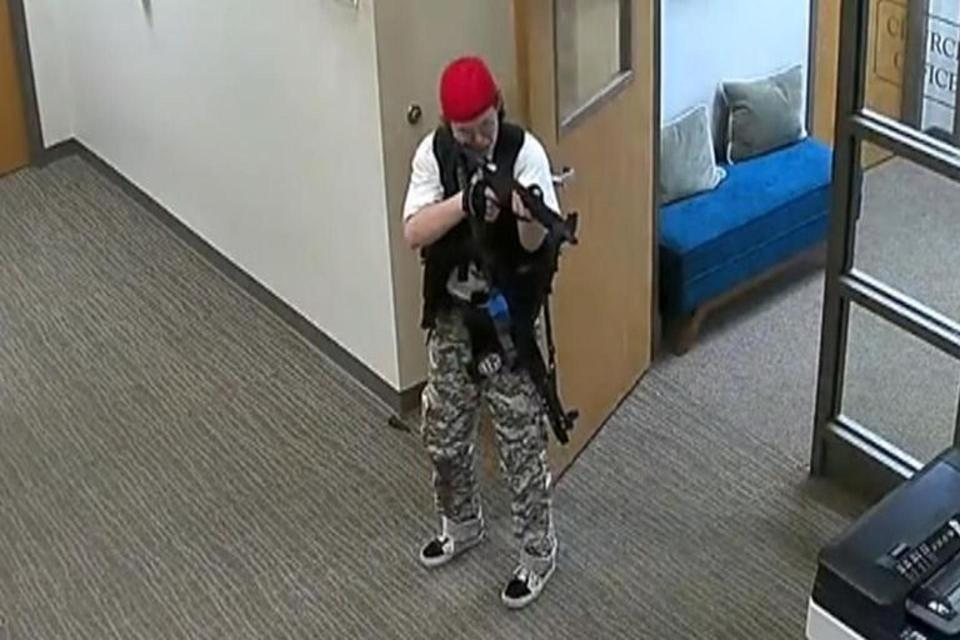non-violence: (399, 50, 574, 613)
weapon: (480, 237, 579, 450), (430, 121, 582, 256)
